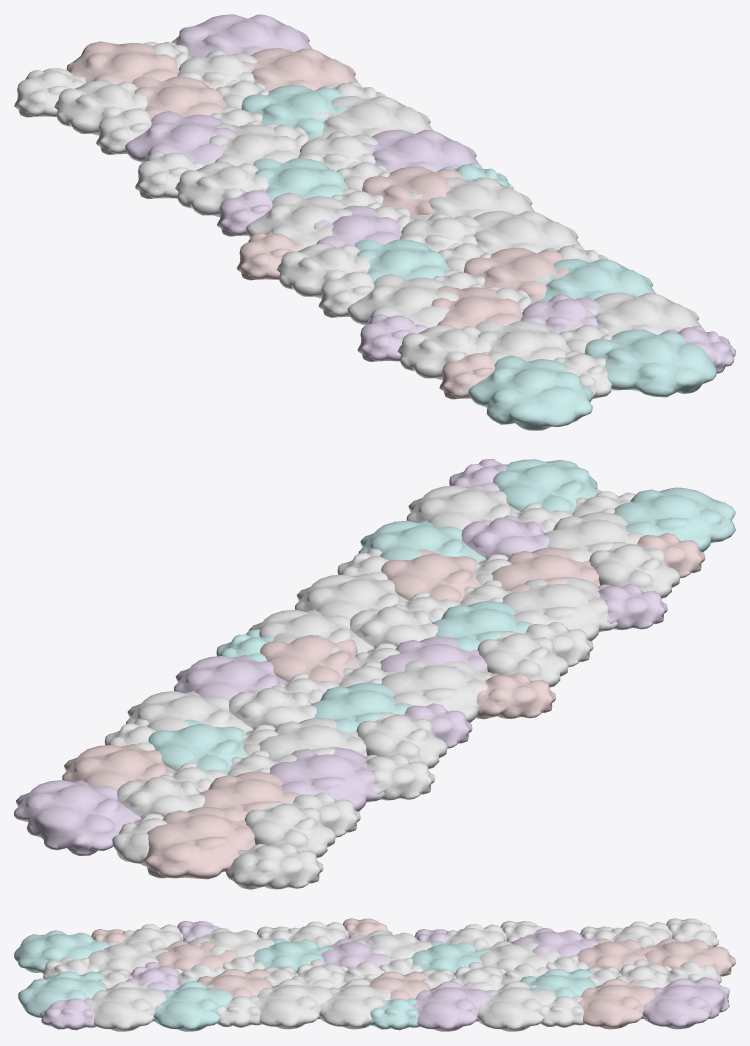
The model's file is CloudPath.fbx.
3 views of the same model, one above another, from view 1: azimuth 30°, elevation 25°; view 2: azimuth 150°, elevation 25°; view 3: azimuth 270°, elevation 25° (orthographic). The views are drawn at different scales.
Visible parts, largest first — view 1: n0b0_46, n0b0_13, n0b0_0, n0b0_34, n0b0_38, n0b0_32, n0b0_2, n0b0_23, n0b0_6, n0b0_15, n0b0_27, n0b0_4 (+38 smaller); view 2: n0b0_0, n0b0_32, n0b0_46, n0b0_38, n0b0_34, n0b0_13, n0b0_27, n0b0_20, n0b0_4, n0b0_33, n0b0_10, n0b0_23 (+41 smaller); view 3: n0b0_0, n0b0_15, n0b0_23, n0b0_2, n0b0_6, n0b0_14, n0b0_8, n0b0_18, n0b0_46, n0b0_13, n0b0_32, n0b0_45 (+44 smaller).
Boxes of the visible parts, x1,y1,x2,y2 form: n0b0_46: [468, 355, 592, 430]; n0b0_13: [584, 329, 716, 397]; n0b0_0: [172, 14, 312, 57]; n0b0_34: [125, 111, 236, 165]; n0b0_38: [347, 274, 458, 328]; n0b0_32: [66, 41, 179, 84]; n0b0_2: [241, 48, 358, 90]; n0b0_23: [584, 292, 701, 335]; n0b0_6: [362, 129, 478, 172]; n0b0_15: [463, 210, 580, 254]; n0b0_27: [246, 192, 352, 247]; n0b0_4: [241, 85, 346, 139]; n0b0_0: [14, 779, 141, 855]; n0b0_32: [142, 806, 255, 879]; n0b0_46: [614, 487, 735, 552]; n0b0_38: [502, 577, 617, 641]; n0b0_34: [269, 747, 384, 811]; n0b0_13: [493, 459, 601, 513]; n0b0_27: [381, 660, 491, 722]; n0b0_20: [381, 549, 481, 602]; n0b0_4: [148, 719, 248, 773]; n0b0_33: [225, 843, 323, 889]; n0b0_10: [260, 633, 360, 684]; n0b0_23: [406, 484, 520, 530]; n0b0_0: [643, 977, 729, 1029]; n0b0_15: [254, 978, 331, 1029]; n0b0_23: [88, 981, 166, 1031]; n0b0_2: [577, 978, 655, 1029]; n0b0_6: [412, 981, 489, 1031]; n0b0_14: [154, 981, 232, 1031]; n0b0_8: [477, 981, 555, 1031]; n0b0_18: [319, 977, 391, 1029]; n0b0_46: [14, 930, 109, 972]; n0b0_13: [18, 971, 107, 1017]; n0b0_32: [644, 938, 735, 976]; n0b0_45: [253, 938, 333, 970].
Bounding box in the file's own units: 2188 × 278 × 6355.
